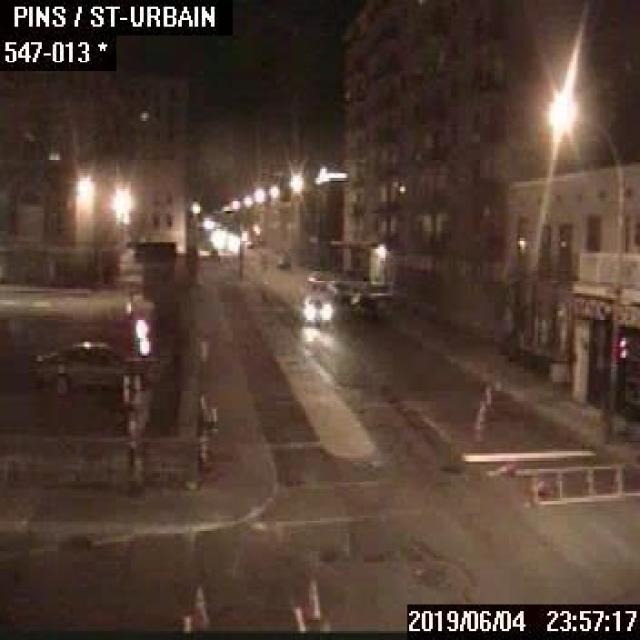construction: (184, 580, 211, 631), (307, 578, 320, 618), (612, 466, 625, 497), (292, 604, 304, 634), (492, 460, 514, 476), (528, 474, 539, 503), (583, 467, 594, 494), (473, 410, 482, 440), (555, 473, 563, 498)
vehicle: (33, 338, 124, 391), (297, 291, 331, 325), (343, 293, 376, 318), (275, 253, 289, 269)
